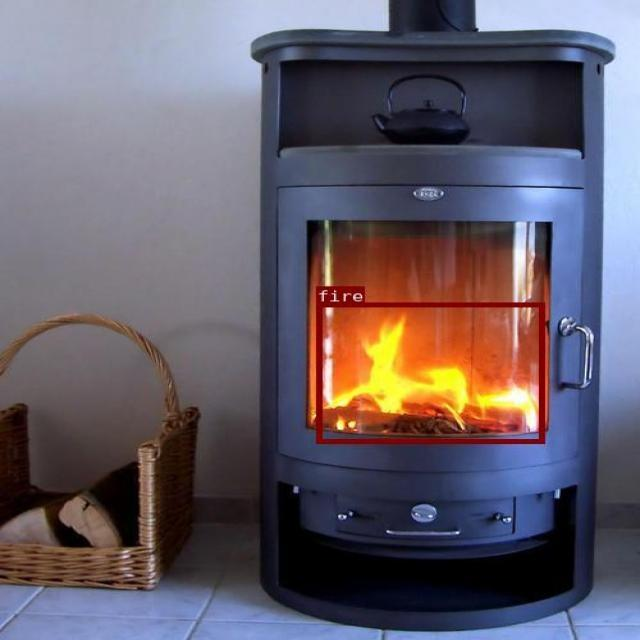fire: (316, 302, 544, 442)
